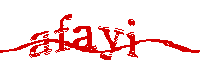a: (73, 24, 95, 51), (29, 30, 52, 55)
f: (55, 9, 73, 52)
i: (126, 19, 139, 60)
y: (98, 24, 125, 62)
